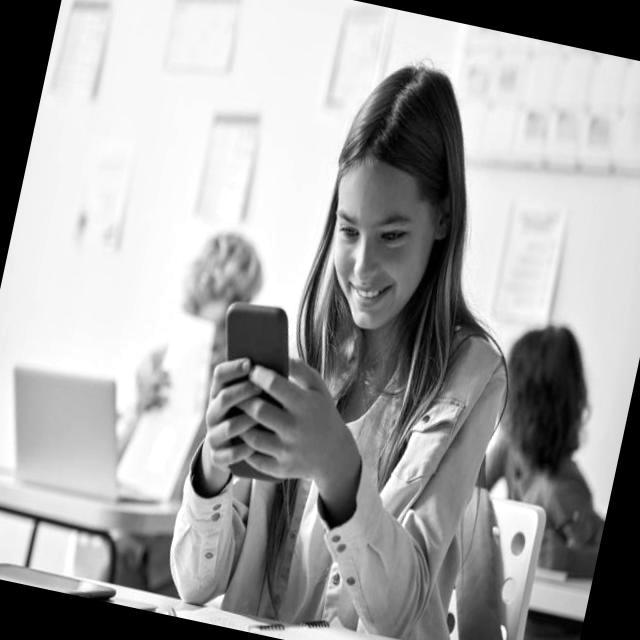phone: (194, 294, 322, 486)
